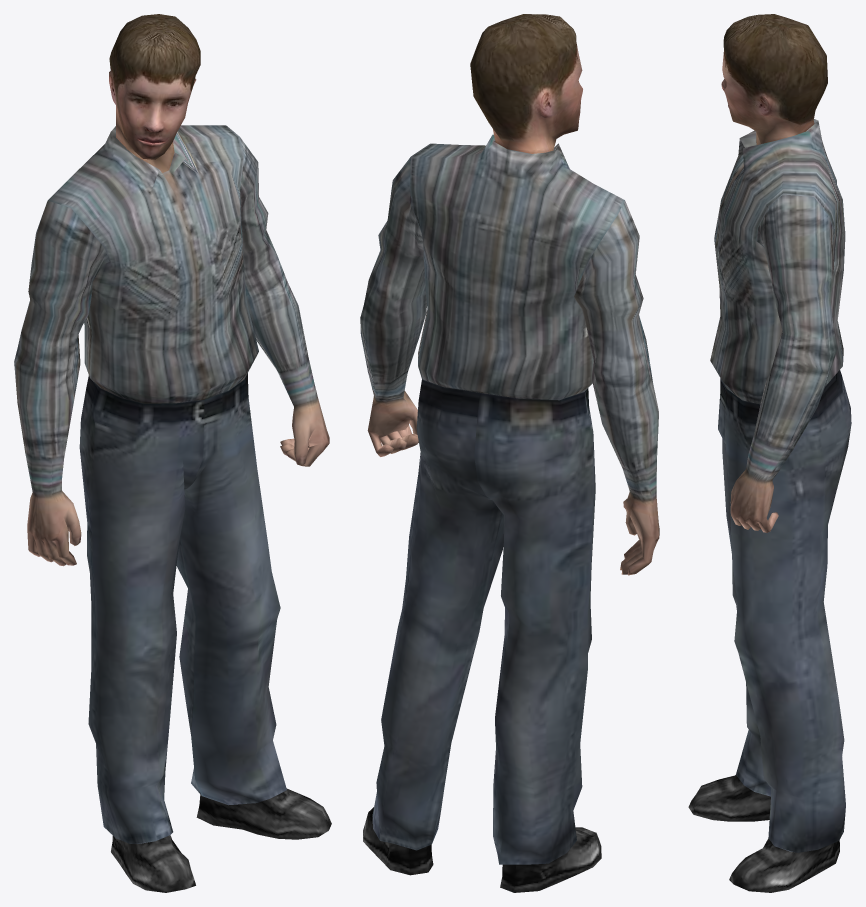
Rendered from persona.obj.
3 renders of one model, left to right at view 1: azimuth 30°, elevation 25°; view 2: azimuth 150°, elevation 25°; view 3: azimuth 270°, elevation 25°, orthographic. The views are drawn at different scales.
Visible parts, largest first — view 1: Mesh1 Model; view 2: Mesh1 Model; view 3: Mesh1 Model.
Part boxes in pixels (x1=…): Mesh1 Model: x1=14, y1=14, x2=331, y2=892; Mesh1 Model: x1=360, y1=14, x2=659, y2=892; Mesh1 Model: x1=688, y1=14, x2=851, y2=892.
Bounding box in the file's own units: 0.672 × 1.83 × 0.3393.
1 material, 1 textured.
